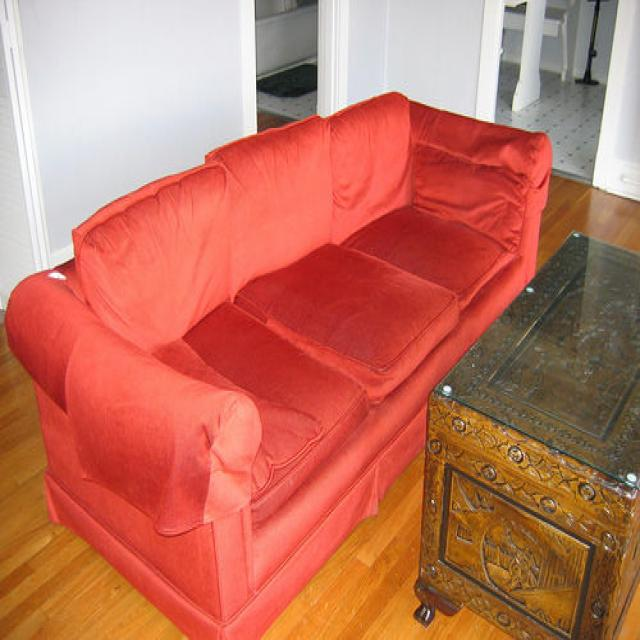sofa: (5, 90, 554, 639)
